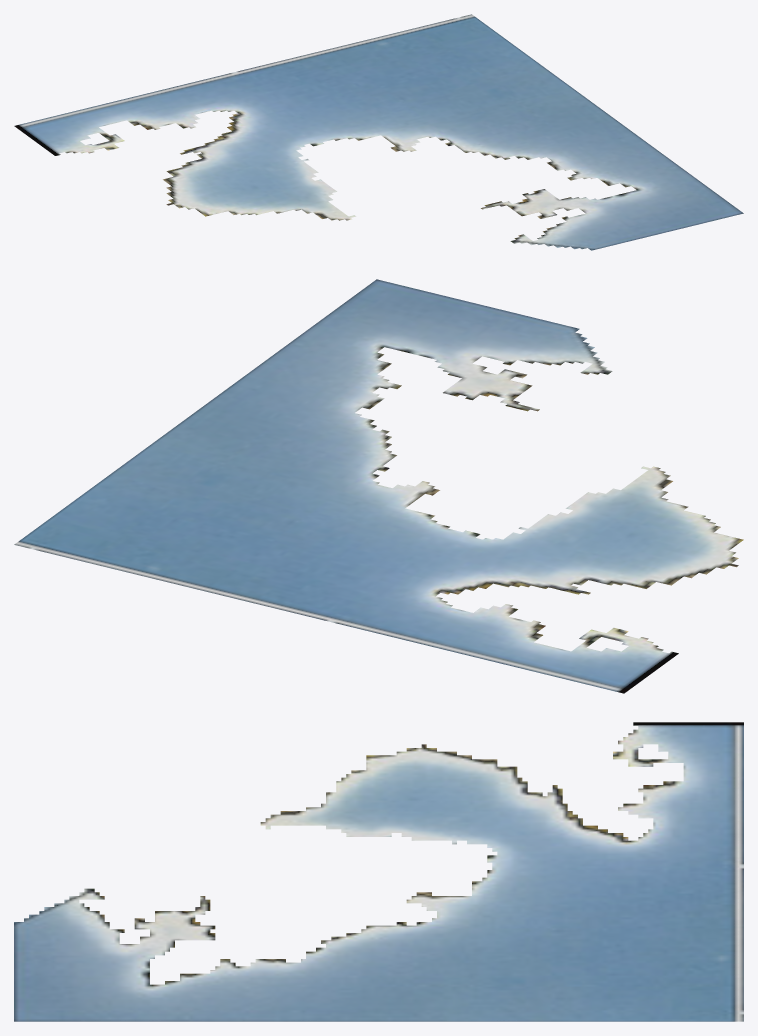
Rendered from eastern-canada-sea.gltf.
The picture shows the model from 3 angles, top to bottom: view 1: azimuth 30°, elevation 25°; view 2: azimuth 150°, elevation 25°; view 3: azimuth 270°, elevation 25°; orthographic projection. The views are drawn at different scales.
Visible parts, largest first — view 1: Plane; view 2: Plane; view 3: Plane.
Boxes of the visible parts, bbox=[...] form: Plane: bbox=[14, 14, 743, 250]; Plane: bbox=[14, 279, 743, 693]; Plane: bbox=[14, 722, 743, 1021].
Size of the model in its own units: 0.7997 by 0 by 0.8234.
Materials: 1 (1 with a texture image).
